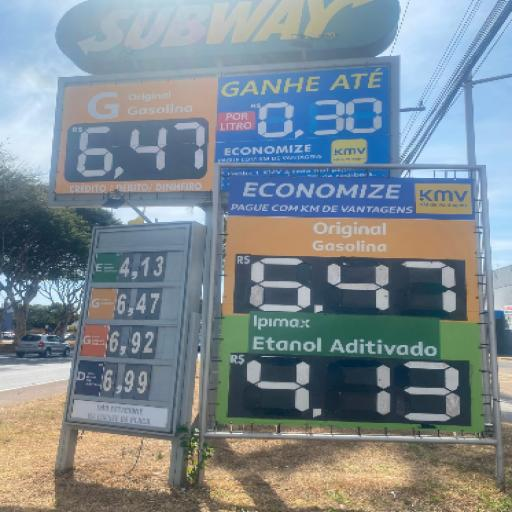ETANOL: (93, 253, 123, 282)
GASOLINA AD: (81, 326, 110, 356)
GASOLINA C: (87, 288, 117, 318)
S10: (75, 362, 103, 394)
placa: (65, 223, 193, 434)
preco: (102, 363, 152, 399), (107, 326, 157, 359), (115, 288, 164, 320), (118, 251, 167, 280)
